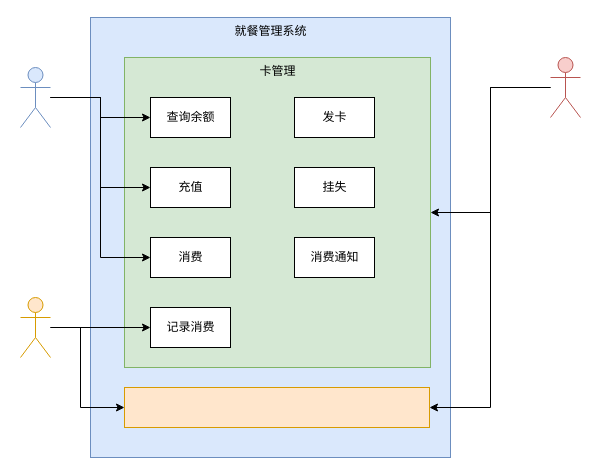
Image size: 600x475. Some labels were removed from this diagram. Each missing label, with the centre of its shape:
"服务员" belongs at (35,327).
"消费者" belongs at (35,97).
"管理员" belongs at (565,87).
"统计报表" belongs at (277,407).
